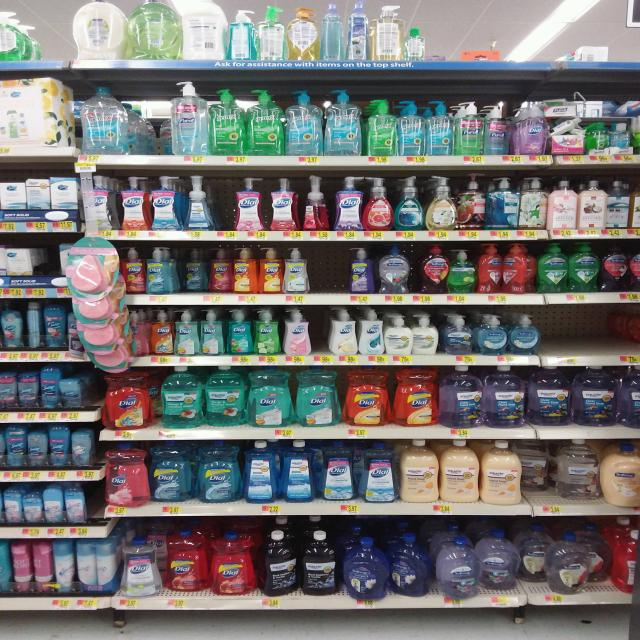unorganised: (476, 530, 551, 596), (66, 1, 125, 59), (125, 2, 180, 59), (478, 243, 536, 295), (387, 533, 432, 596), (179, 1, 226, 61), (369, 3, 405, 62), (183, 170, 216, 232), (255, 1, 287, 61), (301, 174, 334, 231), (286, 3, 317, 63), (224, 5, 257, 59), (317, 1, 345, 63), (521, 446, 552, 502), (178, 246, 210, 295), (457, 173, 486, 227), (486, 102, 514, 155), (209, 243, 233, 294), (586, 543, 611, 589), (59, 374, 84, 411), (403, 24, 426, 64), (155, 115, 174, 154)
